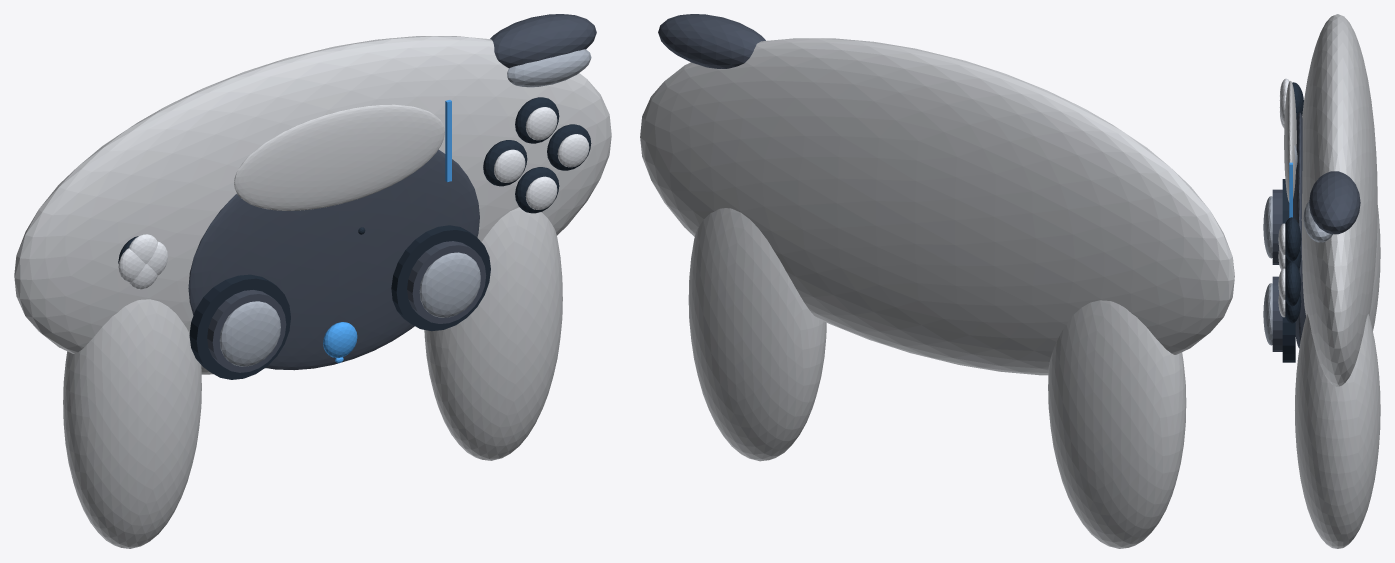
The model's file is controller - Copy.glb.
3 renders of one model, left to right at view 1: azimuth 30°, elevation 25°; view 2: azimuth 150°, elevation 25°; view 3: azimuth 270°, elevation 25°, orthographic. The views are drawn at different scales.
Parts seen in each view (by area): view 1: Main controller shell, Central black face, Left grip, Right grip, Touchpad, Shoulder trigger, Left stick socket, Right stick socket, Left stick cap, Right stick cap, Left analog stick, Right analog stick (+10 smaller); view 2: Main controller shell, Left grip, Right grip, Shoulder trigger; view 3: Main controller shell, Right grip, Shoulder trigger, Central black face, Touchpad, Right analog stick, Left analog stick, Left grip, Triangle bezel, Circle bezel, Right stick socket, Left stick cap (+8 smaller).
Boxes of the visible parts, left/top/right/bottom form: Main controller shell: left=14, top=36, right=611, bottom=374; Central black face: left=188, top=149, right=479, bottom=370; Left grip: left=63, top=299, right=201, bottom=548; Right grip: left=424, top=207, right=562, bottom=460; Touchpad: left=234, top=104, right=444, bottom=210; Shoulder trigger: left=490, top=14, right=596, bottom=68; Left stick socket: left=189, top=274, right=290, bottom=379; Right stick socket: left=391, top=225, right=490, bottom=331; Left stick cap: left=219, top=301, right=280, bottom=366; Right stick cap: left=419, top=252, right=480, bottom=317; Left analog stick: left=207, top=290, right=286, bottom=372; Right analog stick: left=407, top=241, right=486, bottom=323; Main controller shell: left=640, top=38, right=1234, bottom=375; Left grip: left=1048, top=300, right=1186, bottom=548; Right grip: left=688, top=208, right=826, bottom=461; Shoulder trigger: left=658, top=14, right=765, bottom=68; Main controller shell: left=1301, top=14, right=1377, bottom=386; Right grip: left=1295, top=314, right=1380, bottom=548; Shoulder trigger: left=1309, top=171, right=1360, bottom=234; Central black face: left=1293, top=112, right=1305, bottom=348; Touchpad: left=1284, top=81, right=1296, bottom=202; Right analog stick: left=1272, top=276, right=1282, bottom=351; Left analog stick: left=1272, top=189, right=1282, bottom=264; Left grip: left=1369, top=205, right=1380, bottom=330; Triangle bezel: left=1285, top=217, right=1301, bottom=261; Circle bezel: left=1285, top=262, right=1301, bottom=306; Right stick socket: left=1282, top=317, right=1295, bottom=362; Left stick cap: left=1263, top=196, right=1272, bottom=258.
Size of the model in its own units: 4.3 by 3.1 by 0.82.
